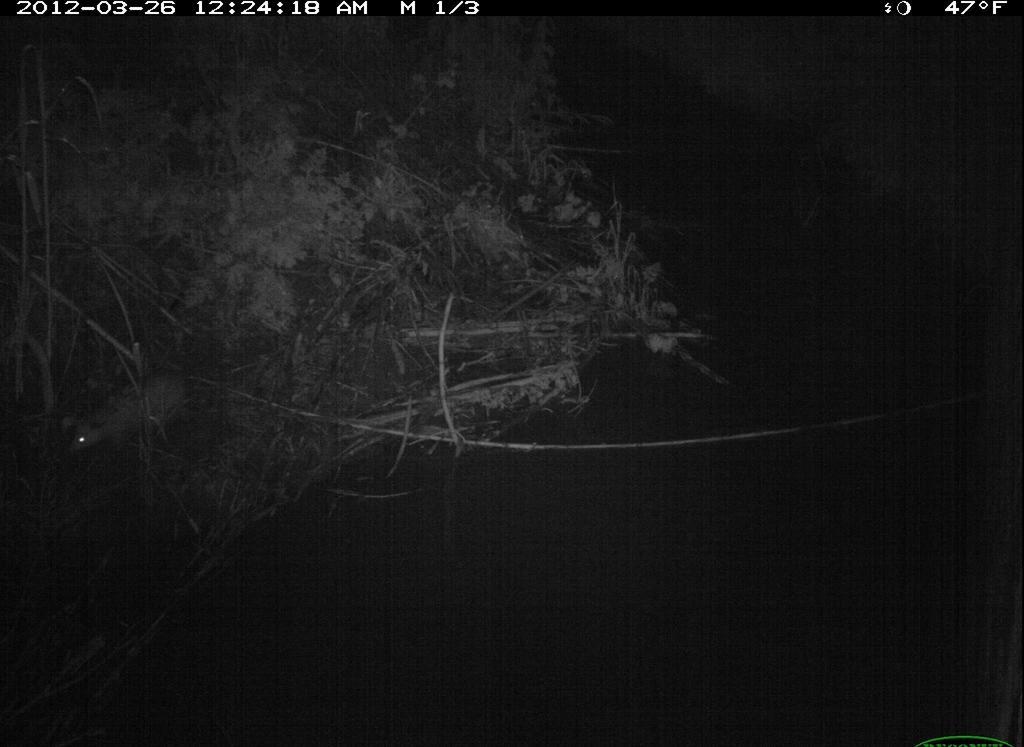opossum: (62, 368, 201, 457)
